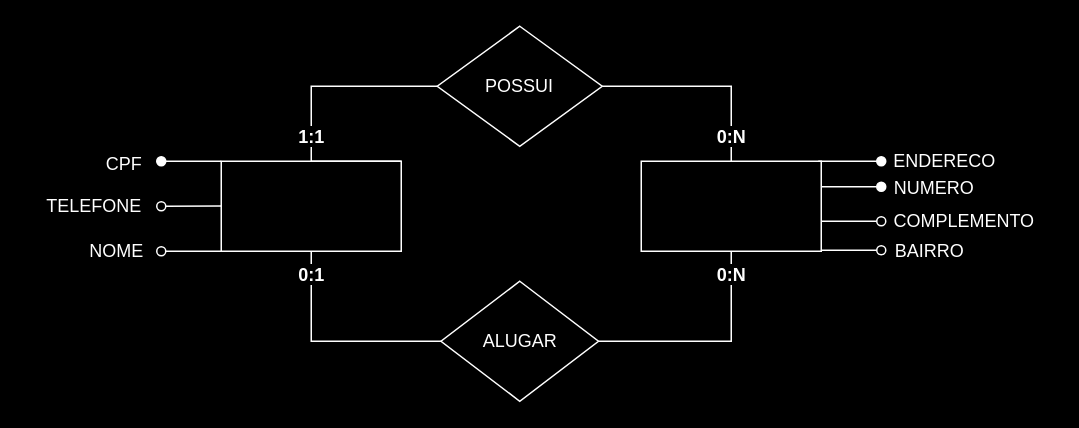
This 1079x428 diagram has some shape labels left out. The shapes that lost their labels are listed below. From the top down, each one's centre as x and y in pixels, then its label:
At point (310, 205): "PESSOAS".
At point (730, 205): "MOVEIS".
